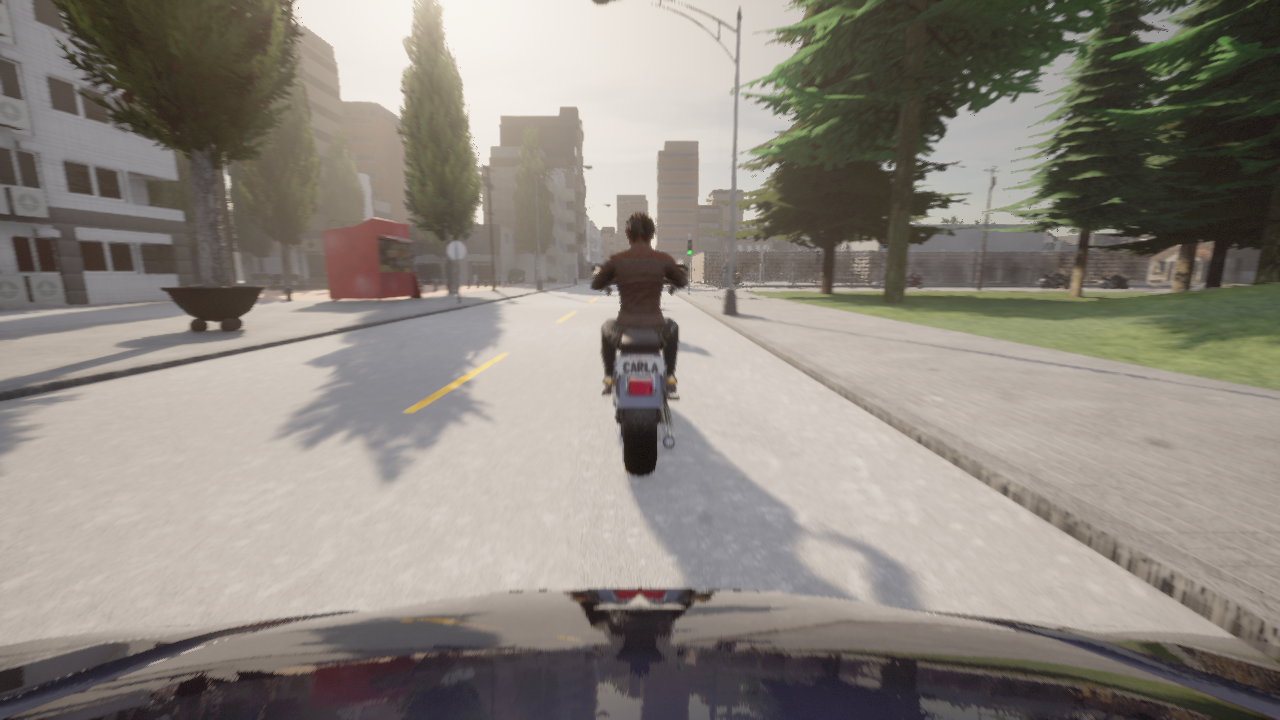cyclist: (0, 588, 1279, 719), (592, 264, 688, 476), (1040, 273, 1071, 288), (1098, 275, 1128, 288), (715, 274, 742, 287), (905, 274, 924, 288), (746, 270, 771, 280), (779, 271, 791, 280), (814, 268, 821, 277), (752, 273, 766, 277), (736, 268, 739, 273), (839, 271, 841, 272), (847, 270, 848, 272)
pedestrian: (719, 258, 735, 288), (734, 272, 740, 288), (721, 273, 722, 275)
